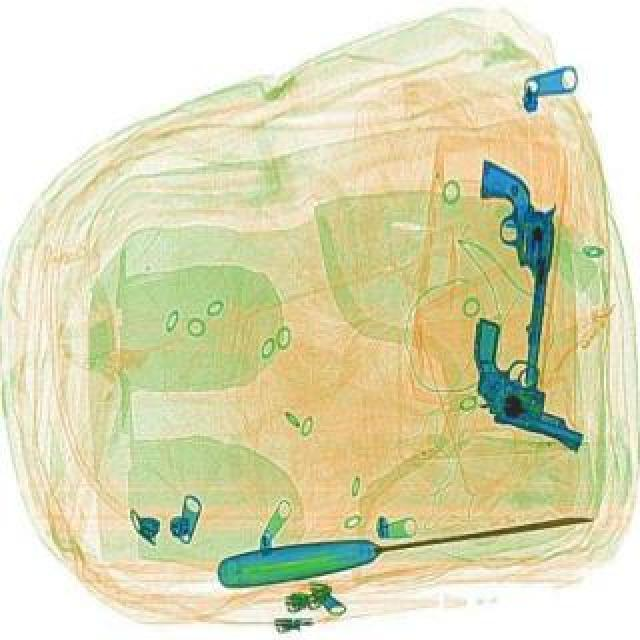gun: (456, 158, 564, 386), (442, 312, 614, 450)
knife: (214, 496, 596, 588)
